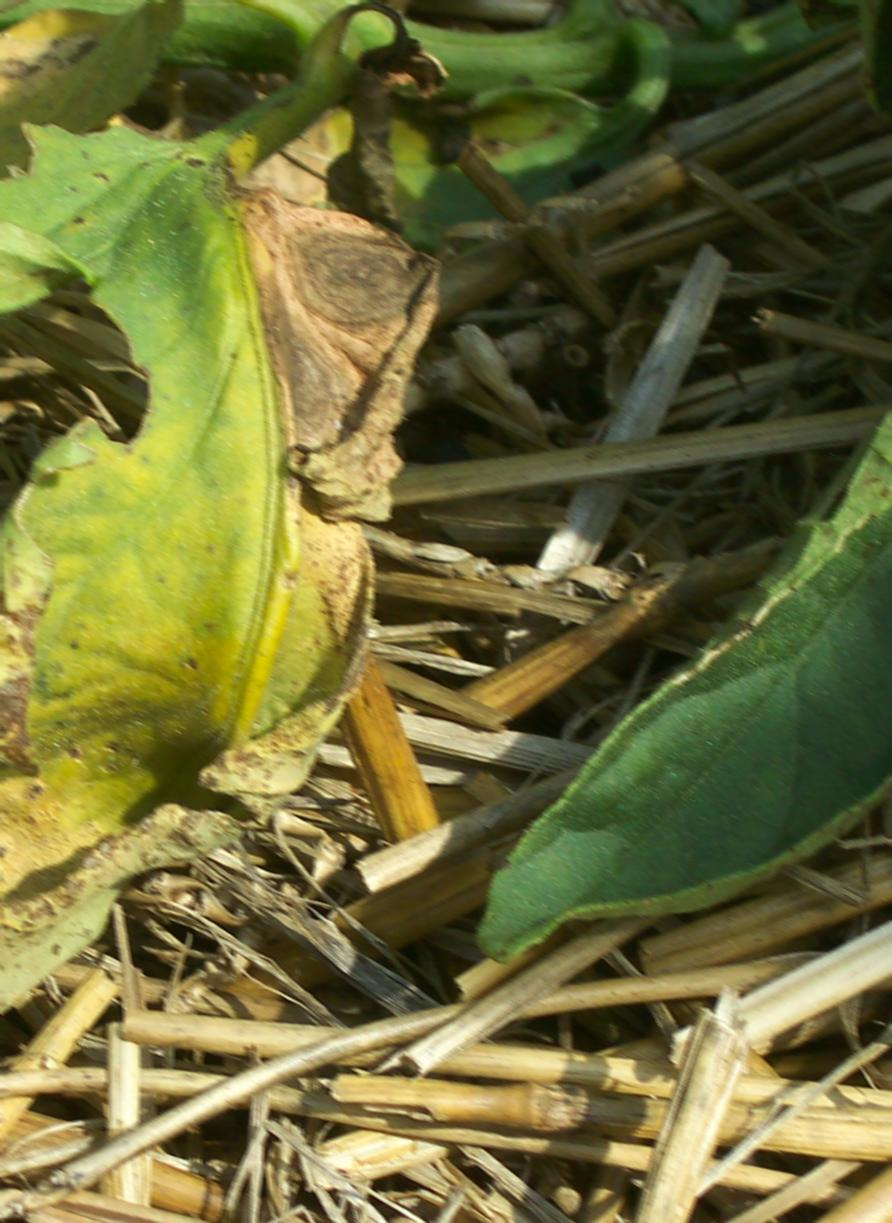Tomato Early blight leaf: (0, 65, 470, 1057)
